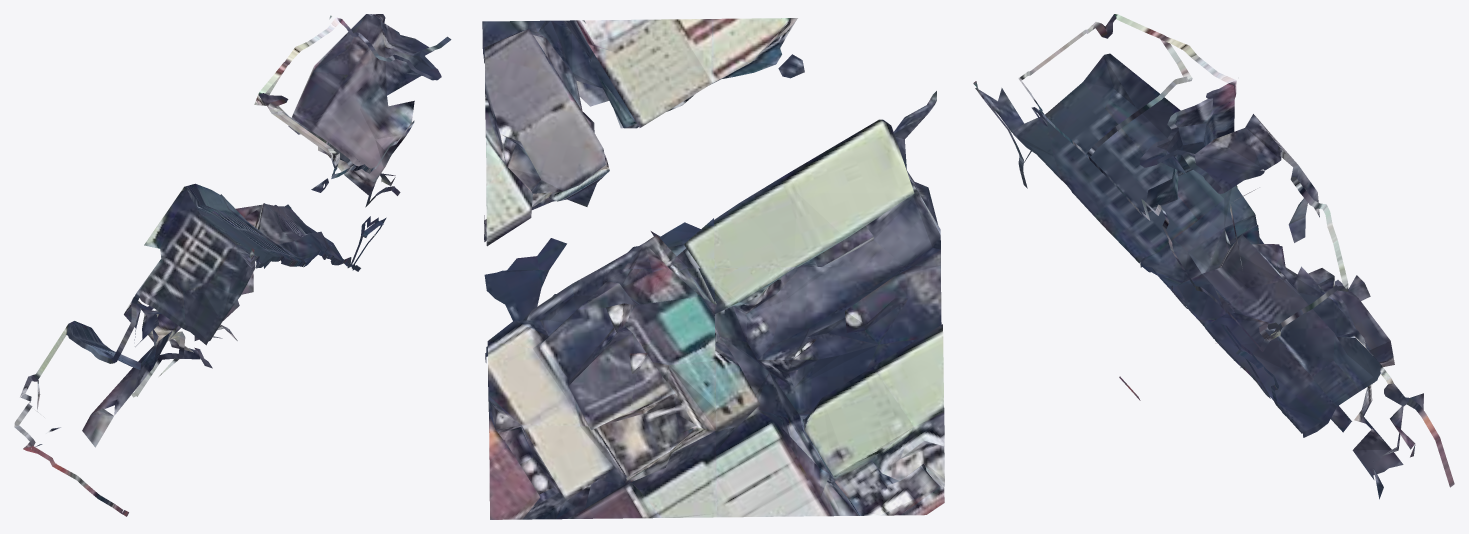
3 views of the same model, side by side, from view 1: azimuth 30°, elevation 25°; view 2: azimuth 150°, elevation 25°; view 3: azimuth 270°, elevation 25° (orthographic). The views are drawn at different scales.
Size of the model in its own units: 42.21 by 39.18 by 36.87.
Materials: 2 (2 with a texture image).
